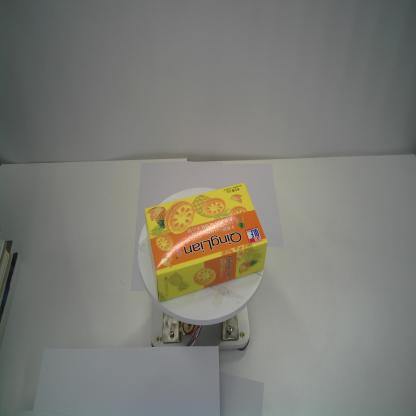Dessert: (143, 182, 269, 304)
